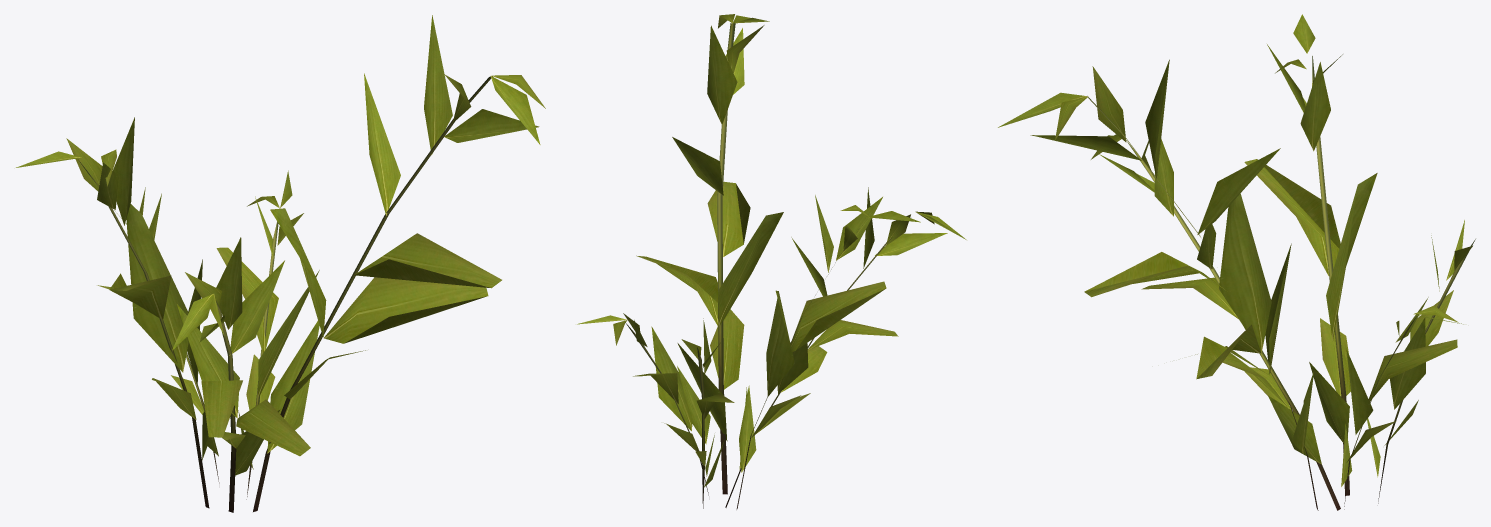
The model's file is leafplant4_lod2.fbx.
3 renders of one model, left to right at view 1: azimuth 30°, elevation 25°; view 2: azimuth 150°, elevation 25°; view 3: azimuth 270°, elevation 25°, orthographic. The views are drawn at different scales.
Parts seen in each view (by area): view 1: Mesh Object; view 2: Mesh Object; view 3: Mesh Object.
Boxes of the visible parts, x1,y1,x2,y2 form: Mesh Object: [16, 15, 545, 512]; Mesh Object: [577, 14, 966, 509]; Mesh Object: [998, 14, 1475, 510].
Bounding box in the file's own units: 1.09 × 1.33 × 1.15.
